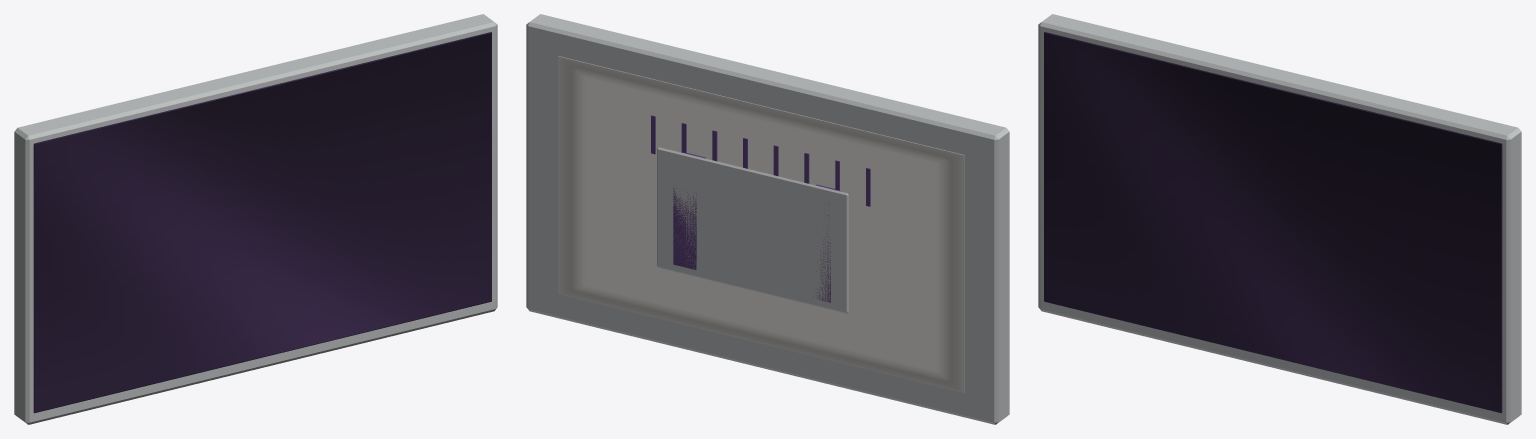
The model's file is s14-tv-wall-mounted-balanced.glb.
3 renders of one model, left to right at view 1: azimuth 30°, elevation 25°; view 2: azimuth 150°, elevation 25°; view 3: azimuth 330°, elevation 25°, orthographic.
Parts seen in each view (by area): view 1: Floating picture plane, Aluminium gallery reveal; view 2: Aluminium gallery reveal, Wall bracket; view 3: Floating picture plane, Aluminium gallery reveal.
Part boxes in pixels (x1,y1,x2,y2): Floating picture plane: (33,32,491,413); Aluminium gallery reveal: (14,14,497,424); Aluminium gallery reveal: (526,14,1009,424); Wall bracket: (657,147,848,313); Floating picture plane: (1044,32,1502,413); Aluminium gallery reveal: (1038,14,1521,424).
Bounding box in the file's own units: 3.55 × 2.08 × 0.3.
1 material, 1 textured.
